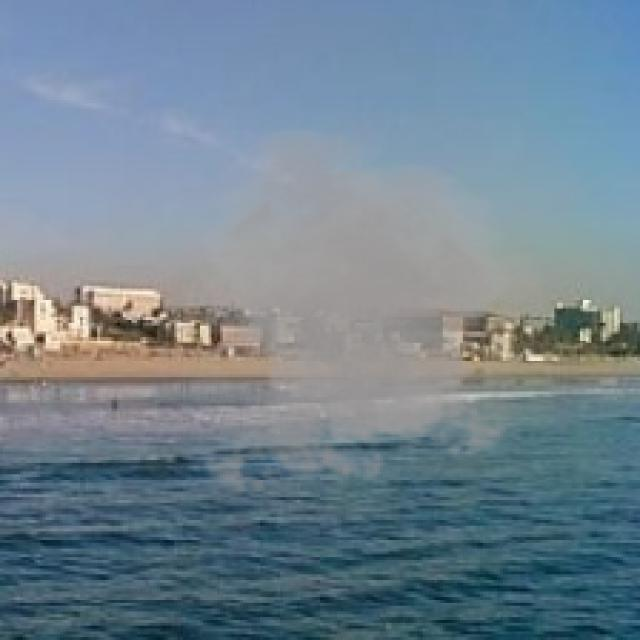smoke: (143, 123, 568, 503)
